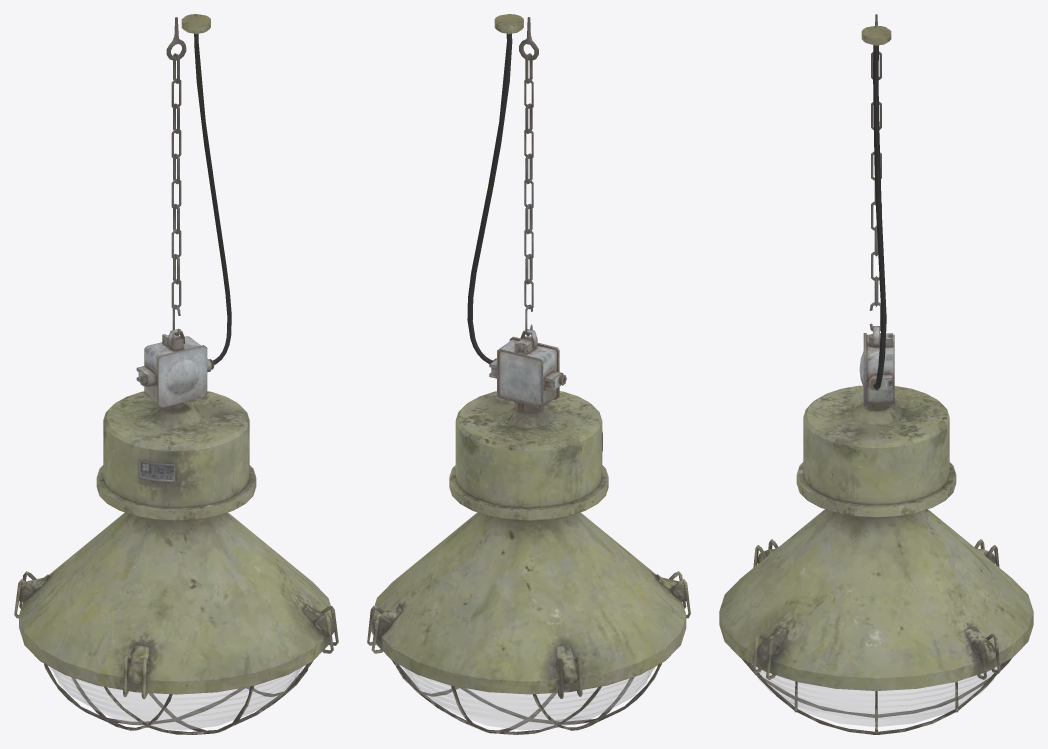
Rendered from hanging_industrial_lamp.glb.
The picture shows the model from 3 angles, left to right: view 1: azimuth 30°, elevation 25°; view 2: azimuth 150°, elevation 25°; view 3: azimuth 270°, elevation 25°; orthographic projection.
Parts seen in each view (by area): view 1: hanging_industrial_lamp; view 2: hanging_industrial_lamp; view 3: hanging_industrial_lamp.
Boxes of the visible parts, bbox=[...] form: hanging_industrial_lamp: bbox=[14, 14, 338, 734]; hanging_industrial_lamp: bbox=[367, 14, 690, 734]; hanging_industrial_lamp: bbox=[719, 14, 1033, 734].
Size of the model in its own units: 0.5497 by 1.36 by 0.5497.
Materials: 2 (1 with a texture image).
